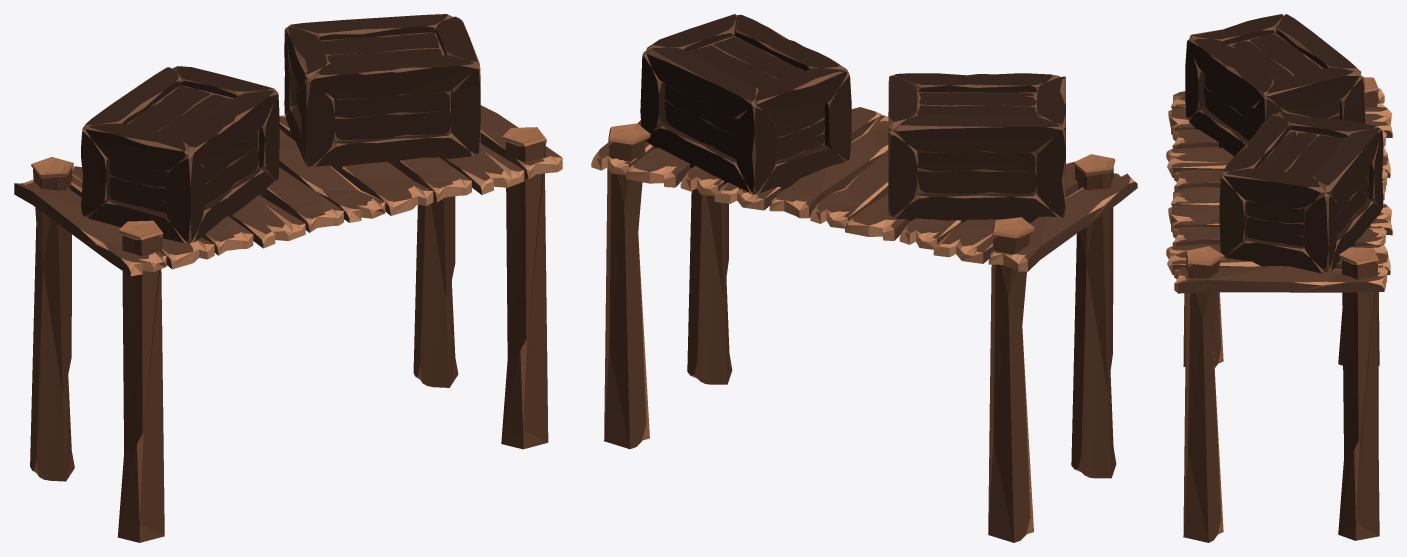
File: kirilan obje.fbx
3 views of the same model, side by side, from view 1: azimuth 30°, elevation 25°; view 2: azimuth 150°, elevation 25°; view 3: azimuth 270°, elevation 25° (orthographic). The views are drawn at different scales.
Parts seen in each view (by area): view 1: kirilan_obje_parca4, kirilan_obje_parca6, kirilan_obje_parca5, kirilan_obje_parca2, kirilan_obje_parca7, kirilan_obje_parca1, kirilan_obje_parca3; view 2: kirilan_obje_parca4, kirilan_obje_parca6, kirilan_obje_parca5, kirilan_obje_parca1, kirilan_obje_parca3, kirilan_obje_parca7, kirilan_obje_parca2; view 3: kirilan_obje_parca4, kirilan_obje_parca6, kirilan_obje_parca5, kirilan_obje_parca3, kirilan_obje_parca2, kirilan_obje_parca7, kirilan_obje_parca1.
Part boxes in pixels (box(x1,y1,x2,y2)): kirilan_obje_parca4: box(284, 14, 480, 170); kirilan_obje_parca6: box(81, 66, 279, 243); kirilan_obje_parca5: box(14, 105, 562, 276); kirilan_obje_parca2: box(501, 127, 548, 449); kirilan_obje_parca7: box(117, 220, 164, 542); kirilan_obje_parca1: box(30, 157, 74, 481); kirilan_obje_parca3: box(413, 196, 458, 387); kirilan_obje_parca4: box(640, 14, 851, 194); kirilan_obje_parca6: box(888, 73, 1065, 223); kirilan_obje_parca5: box(591, 107, 1137, 271); kirilan_obje_parca1: box(988, 217, 1034, 542); kirilan_obje_parca3: box(604, 123, 650, 448); kirilan_obje_parca7: box(1071, 154, 1116, 478); kirilan_obje_parca2: box(687, 188, 732, 384); kirilan_obje_parca4: box(1219, 110, 1383, 273); kirilan_obje_parca6: box(1185, 14, 1365, 156); kirilan_obje_parca5: box(1166, 88, 1392, 293); kirilan_obje_parca3: box(1338, 247, 1379, 540); kirilan_obje_parca2: box(1183, 246, 1223, 542); kirilan_obje_parca7: box(1183, 292, 1223, 367); kirilan_obje_parca1: box(1338, 77, 1379, 365).
Bounding box in the file's own units: 281 × 233 × 138.
